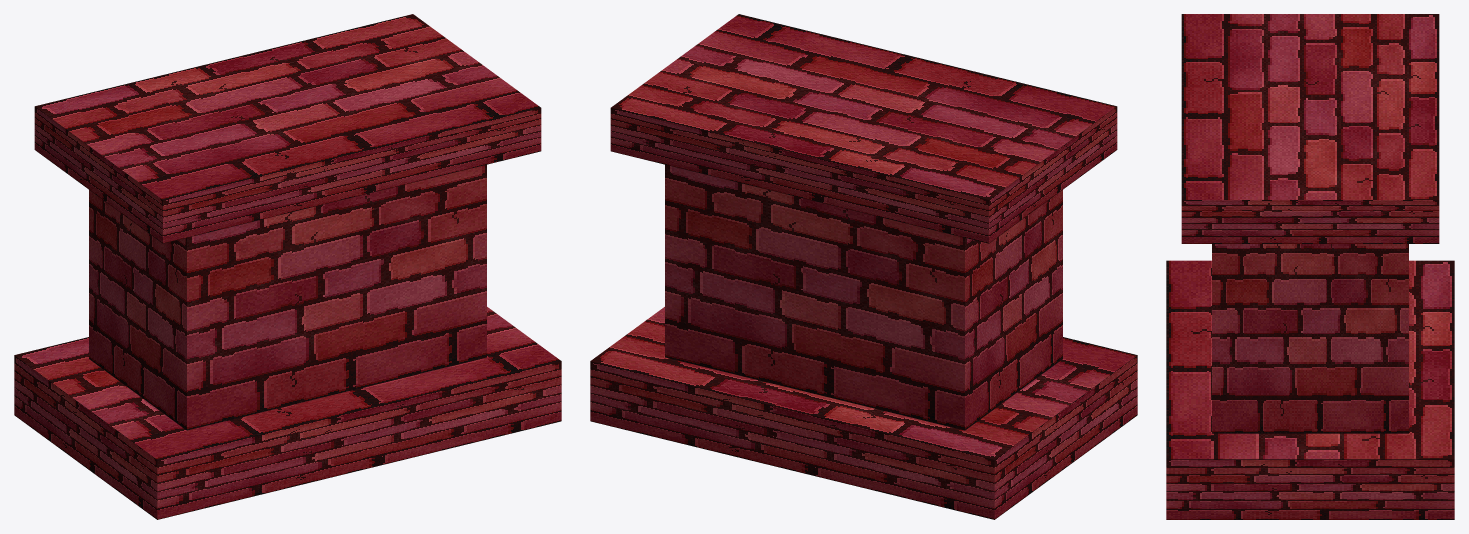
File: altar_de_sangue.glb
3 renders of one model, left to right at view 1: azimuth 30°, elevation 25°; view 2: azimuth 150°, elevation 25°; view 3: azimuth 270°, elevation 25°, orthographic.
Visible parts, largest first — view 1: altar_de_sangue; view 2: altar_de_sangue; view 3: altar_de_sangue.
Boxes of the visible parts, x1,y1,x2,y2 form: altar_de_sangue: (14,14,561,519); altar_de_sangue: (590,14,1137,519); altar_de_sangue: (1166,14,1454,519).
Bounding box in the file's own units: 1.55 × 1.14 × 0.95.
1 material, 1 textured.
